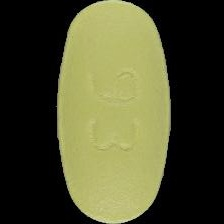69189-7367: (0, 0, 224, 224)
